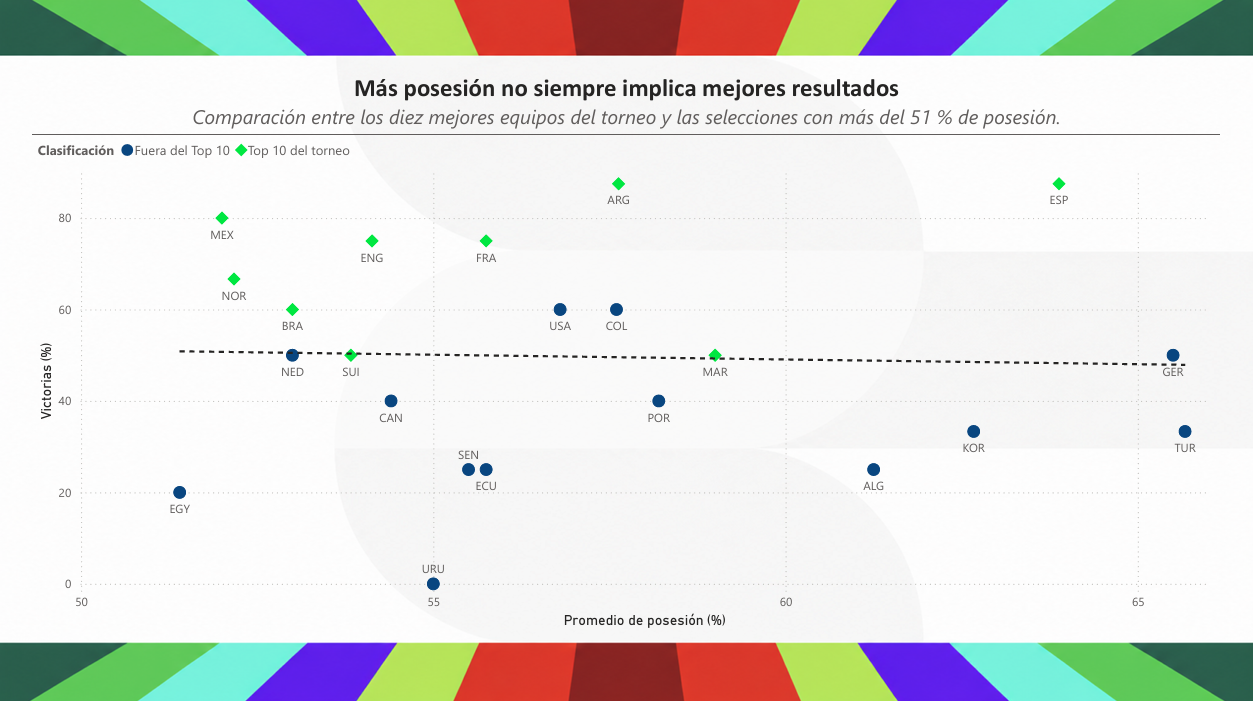

Layout of this report page (visuals, bound fields, positions):
{"tool":"powerbi","page":{"name":"% vict % pos","canvas":[1280,720],"ordinal":1},"visuals":[{"type":"scatterChart","title":"Más posesión no siempre implica mejores resultados","fields":{"Category":["_SELECT_ea_id_equipo_e_seleccion_COUNT_AS_partidos_jugados_SUM_C_202608142350.id_equipo"],"X":["Sum(_SELECT_ea_id_equipo_e_seleccion_COUNT_AS_partidos_jugados_SUM_C_202608142350.posesion_promedio)"],"Y":["Sum(_SELECT_ea_id_equipo_e_seleccion_COUNT_AS_partidos_jugados_SUM_C_202608142350.porcentaje_victorias)"],"Series":["_SELECT_ea_id_equipo_e_seleccion_COUNT_AS_partidos_jugados_SUM_C_202608142350.Grupo visual"]},"box":[34.6,74.9,1209.6,570.2],"z":0}]}

Visuals, with their boxes in screenshot pixels (x1, y1, x2, y2), scaled from the page's 1280x720 canvas onto the 1253x701 screenshot:
"Más posesión no siempre implica mejores resultados" scatterChart: 34 73 1218 628
